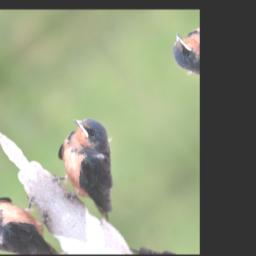Swallow: (30, 106, 153, 234)
